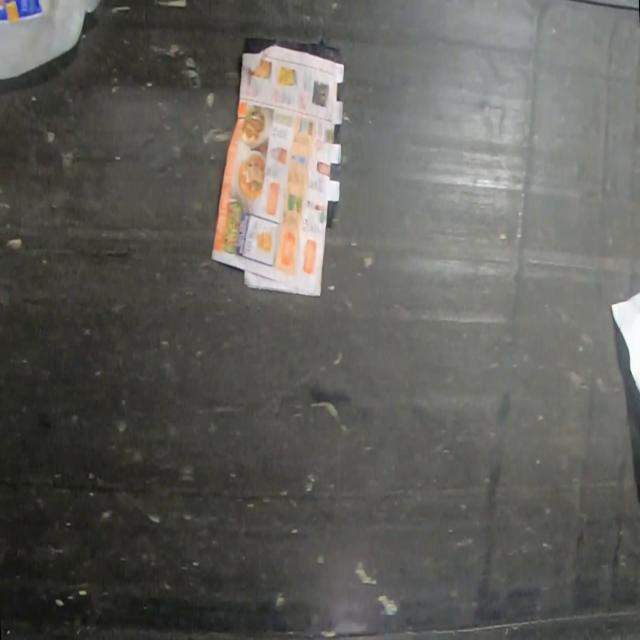rigid_plastic: (0, 0, 102, 83)
